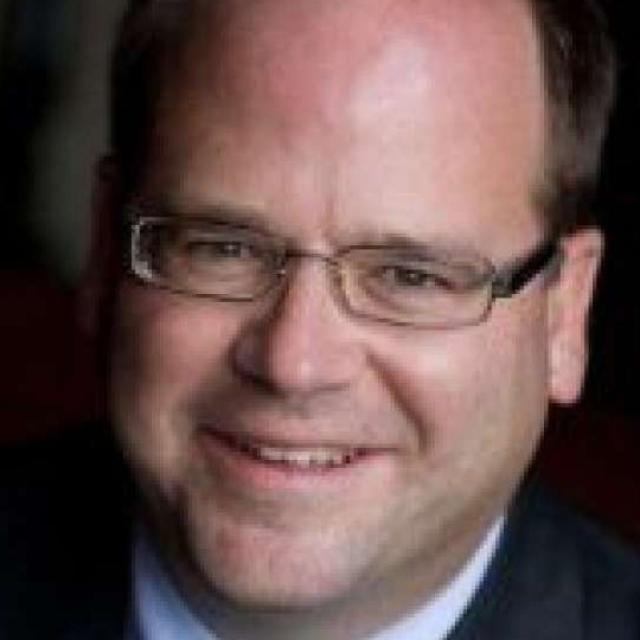Normal: (102, 0, 552, 618)
